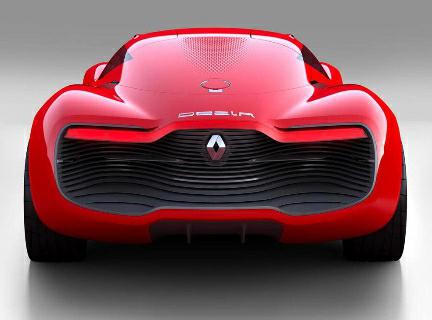雷诺-DeZir: (17, 26, 415, 276)
